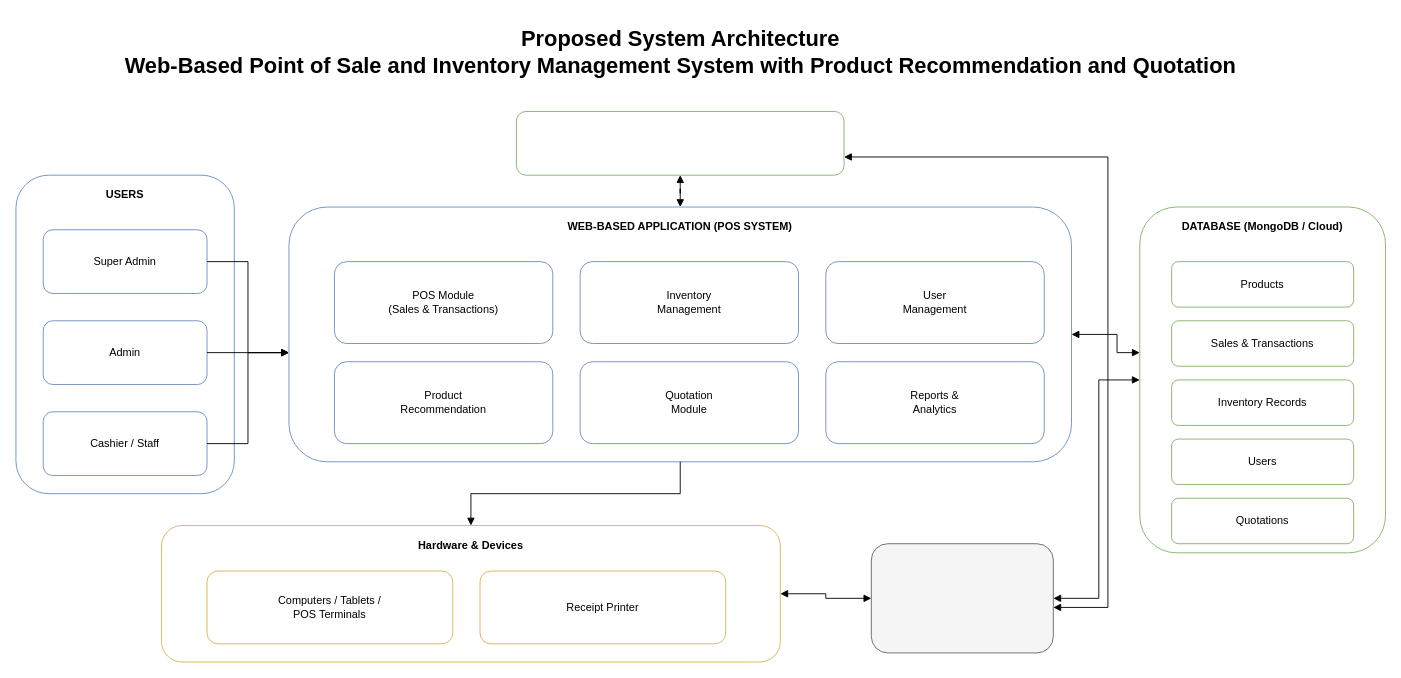
The diagram is 1401 pixels wide and 678 high, and some of its shapes have lost their labels. Here are the shapes that lost their labels. From the top down, the centre of each, then its label:
At (x=680, y=143): "Web Server (Cloud / Local Host)".
At (x=961, y=598): "Network Internet / Local Network".
